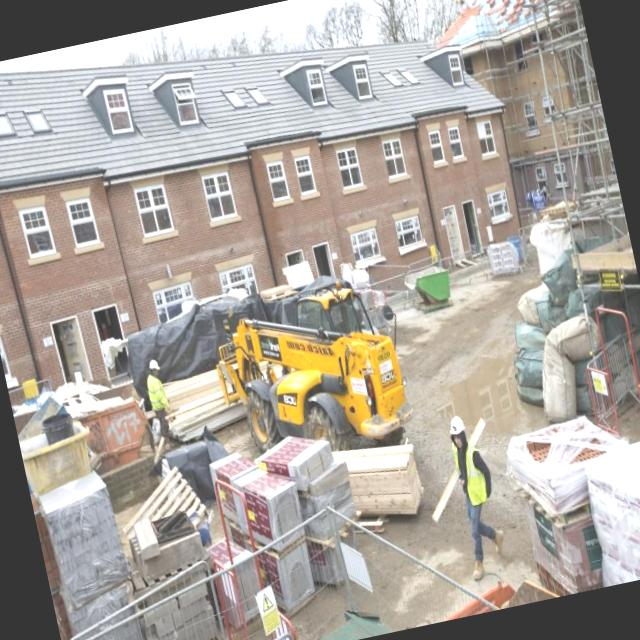helmet: (438, 409, 472, 445), (145, 349, 165, 378)
vest: (446, 440, 492, 510), (144, 375, 166, 411)
